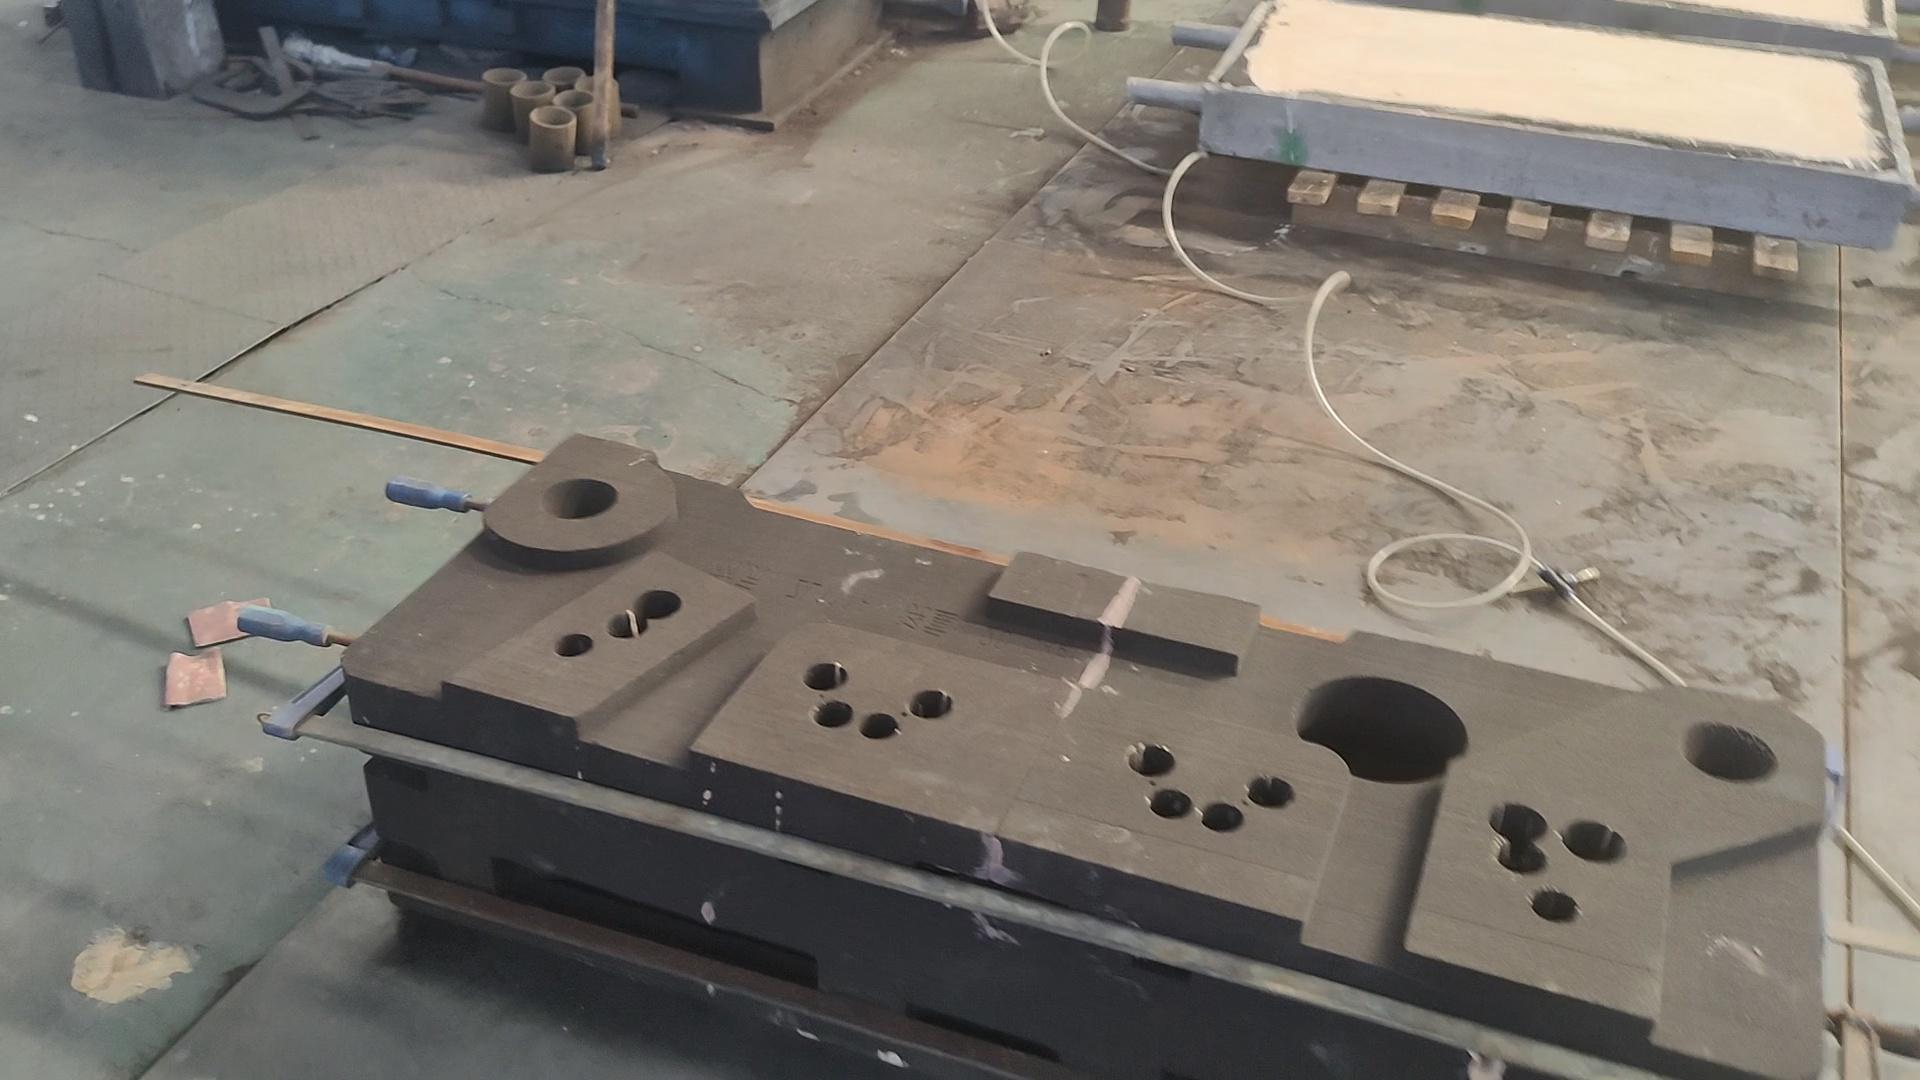pouring hole: (1680, 720, 1780, 785), (541, 479, 618, 520), (531, 105, 575, 127), (555, 88, 595, 107), (510, 80, 553, 98), (542, 66, 583, 82), (483, 69, 526, 83), (575, 78, 618, 92)
